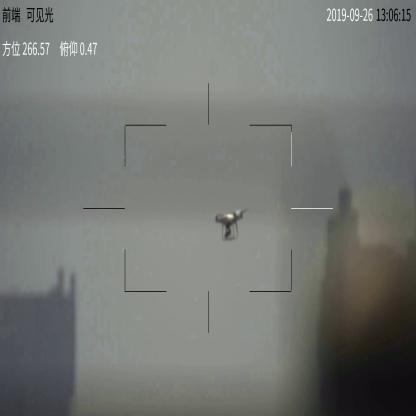uav: (210, 208, 248, 241)
